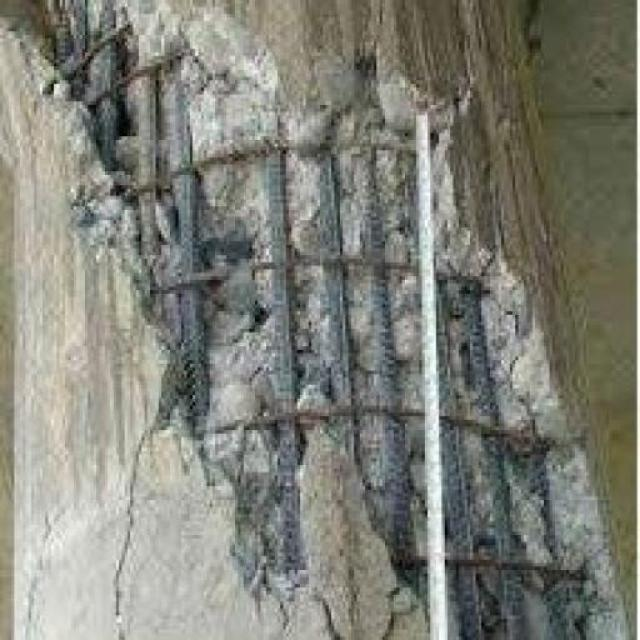D0w0: (1, 5, 424, 635), (431, 104, 621, 636)
